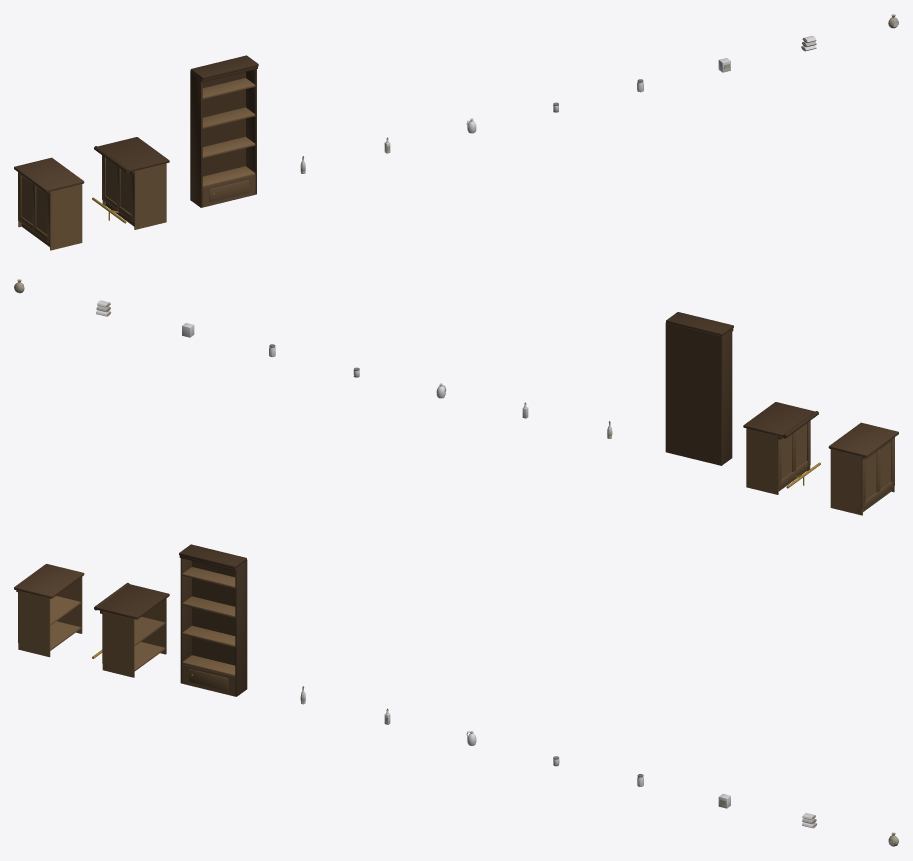
File: shop.fbx
3 renders of one model, top to bottom at view 1: azimuth 30°, elevation 25°; view 2: azimuth 150°, elevation 25°; view 3: azimuth 330°, elevation 25°, orthographic.
Visible parts, largest first — view 1: shop_shelf, bar_counter, shop_counter; view 2: shop_shelf, bar_counter, shop_counter; view 3: shop_shelf, bar_counter, shop_counter.
Part boxes in pixels (left/top/right/bottom): shop_shelf: left=190, top=55, right=258, bottom=207; bar_counter: left=92, top=137, right=169, bottom=229; shop_counter: left=14, top=157, right=84, bottom=250; shop_shelf: left=665, top=312, right=733, bottom=465; bar_counter: left=743, top=402, right=820, bottom=494; shop_counter: left=828, top=422, right=898, bottom=515; shop_shelf: left=179, top=544, right=247, bottom=696; bar_counter: left=92, top=583, right=169, bottom=677; shop_counter: left=14, top=564, right=84, bottom=657.
Size of the model in its own units: 15.44 by 2.24 by 1.
